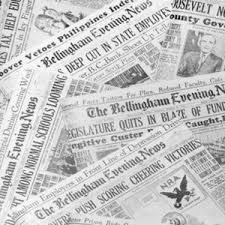Printing industry: (0, 2, 225, 225)
